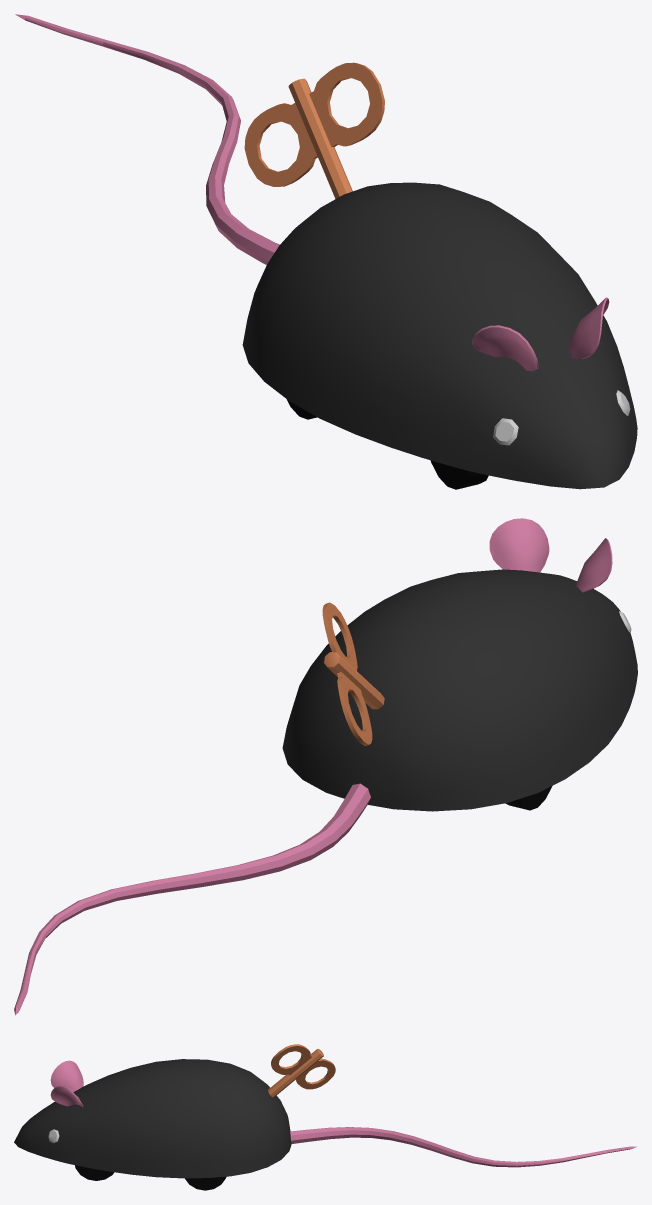
File: simple_mouse_v2.fbx
The picture shows the model from 3 angles, top to bottom: view 1: azimuth 30°, elevation 25°; view 2: azimuth 150°, elevation 25°; view 3: azimuth 270°, elevation 25°; orthographic projection. The views are drawn at different scales.
Visible parts, largest first — view 1: mouse_body, key_geo, mouse_tail, wheels, mouse_eyes; view 2: mouse_body, mouse_tail, key_geo; view 3: mouse_body, mouse_tail, key_geo, wheels.
Boxes of the visible parts, <box> form: mouse_body: <box>242,182,637,489</box>; key_geo: <box>244,62,384,198</box>; mouse_tail: <box>15,14,279,264</box>; wheels: <box>287,399,488,489</box>; mouse_eyes: <box>493,390,630,445</box>; mouse_body: <box>282,518,637,811</box>; mouse_tail: <box>14,783,370,1015</box>; key_geo: <box>322,602,384,745</box>; mouse_body: <box>14,1059,291,1178</box>; mouse_tail: <box>290,1127,636,1167</box>; key_geo: <box>268,1044,335,1097</box>; wheels: <box>75,1165,226,1190</box>.
Bounding box in the file's own units: 113 × 92.18 × 413.
